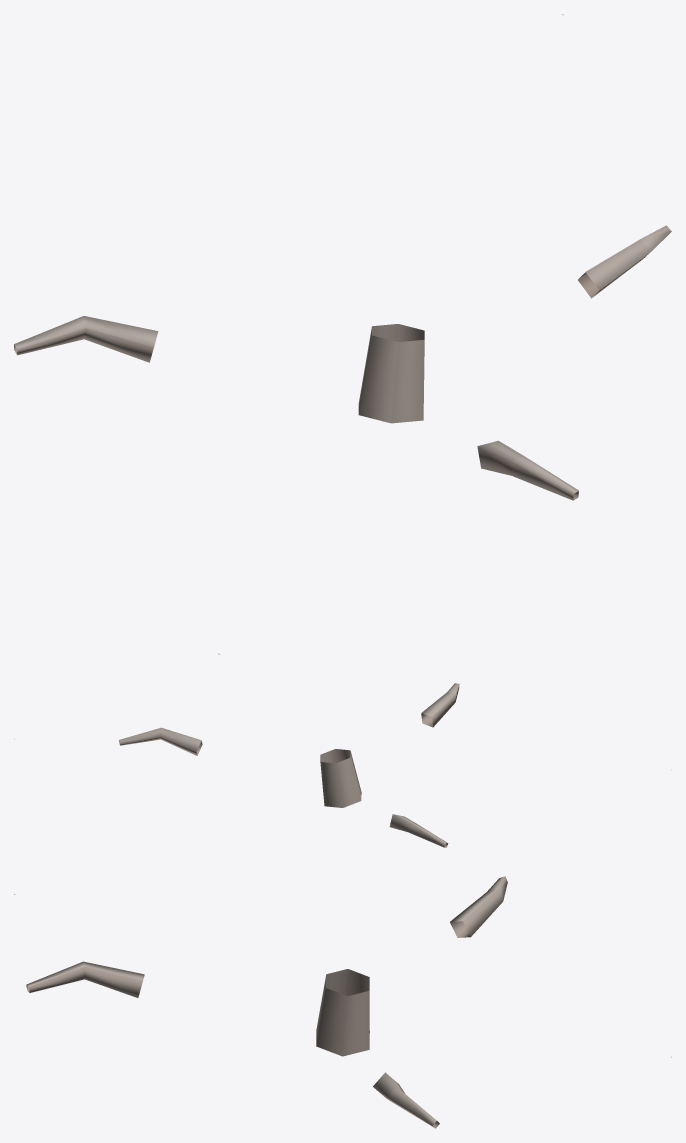
The model's file is Juniper1_bark.glb.
The picture shows the model from 3 angles, top to bottom: view 1: azimuth 30°, elevation 25°; view 2: azimuth 150°, elevation 25°; view 3: azimuth 270°, elevation 25°; orthographic projection. The views are drawn at different scales.
Visible parts, largest first — view 1: Juniper1_bark; view 2: Juniper1_bark; view 3: Juniper1_bark.
Part boxes in pixels (left/top/right/bottom): Juniper1_bark: left=14, top=14, right=671, bottom=654; Juniper1_bark: left=14, top=683, right=671, bottom=847; Juniper1_bark: left=14, top=876, right=671, bottom=1128.
Bounding box in the file's own units: 7.32 × 1.55 × 6.82.
